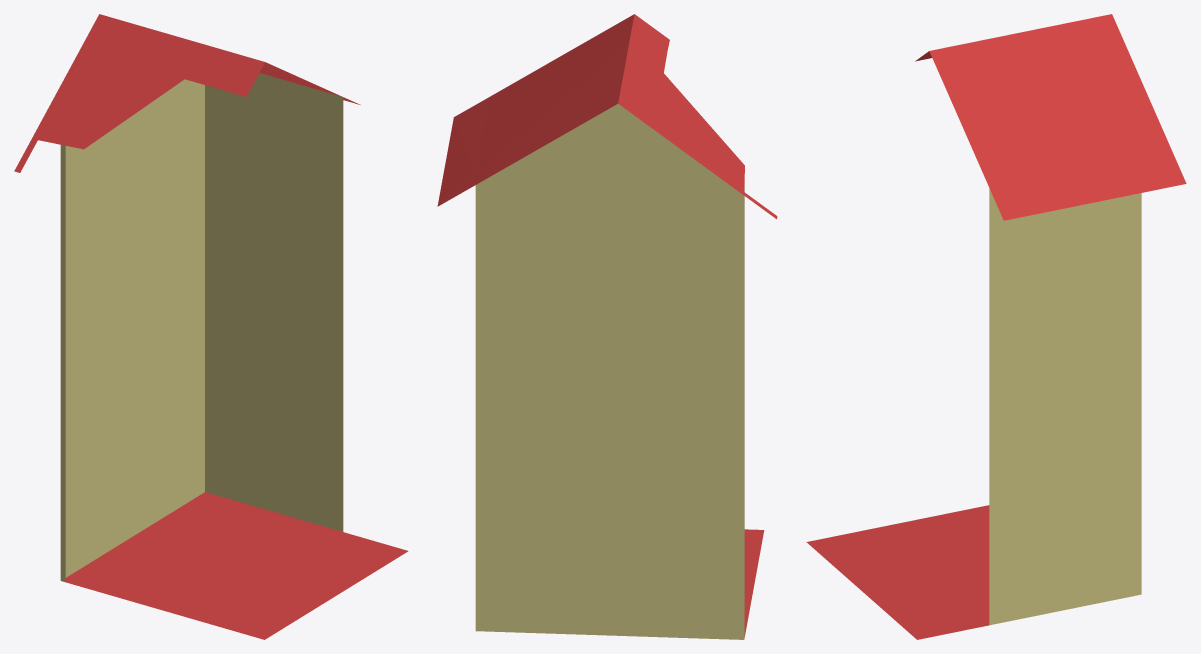
3 views of the same model, side by side, from view 1: azimuth 30°, elevation 25°; view 2: azimuth 150°, elevation 25°; view 3: azimuth 270°, elevation 25° (orthographic). The views are drawn at different scales.
Size of the model in its own units: 8.52 by 8.43 by 12.76.
